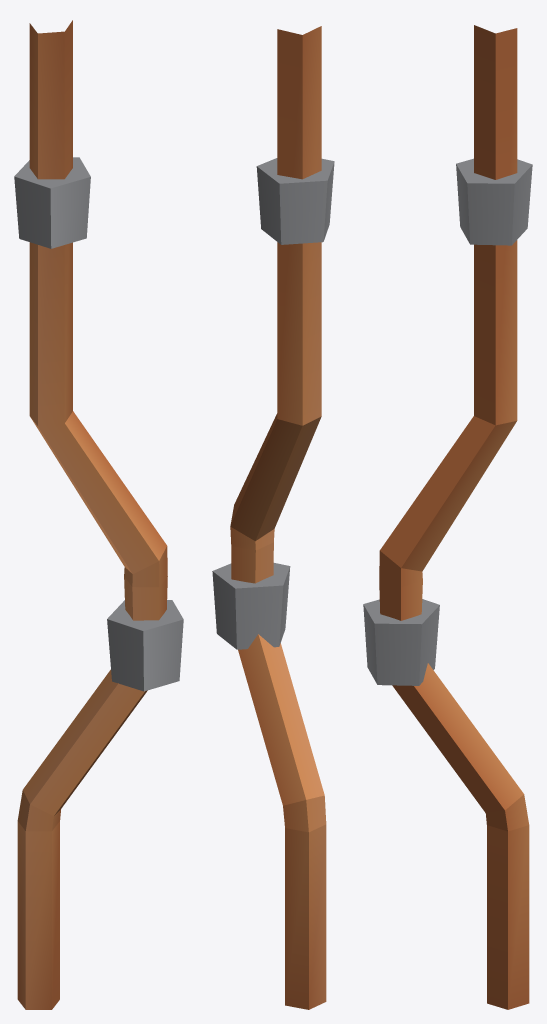
Rendered from OrangePowerCord.glb.
The picture shows the model from 3 angles, left to right: view 1: azimuth 90°, elevation 25°; view 2: azimuth 210°, elevation 25°; view 3: azimuth 270°, elevation 25°; orthographic projection.
Visible parts, largest first — view 1: OrangePowerCord; view 2: OrangePowerCord; view 3: OrangePowerCord.
Boxes of the visible parts, <box> form: OrangePowerCord: <box>14,20,183,1009</box>; OrangePowerCord: <box>212,26,334,1009</box>; OrangePowerCord: <box>363,25,532,1009</box>.
Bounding box in the file's own units: 132 × 1860 × 292.
